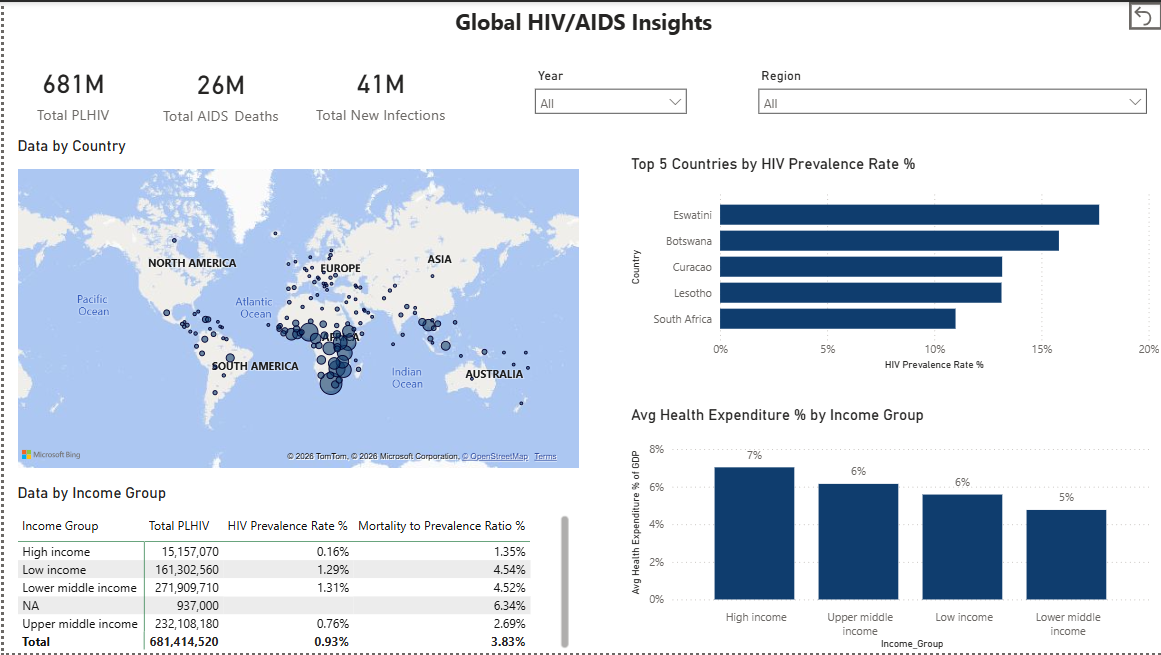

What the dashboard file says about the page in this screenshot:
{"tool":"powerbi","page":{"name":"Executive summary","canvas":[1280,720],"ordinal":1},"visuals":[{"type":"card","fields":{"Values":["All_Measures.Total PLHIV"]},"box":[7.7,61.5,135.8,75.6],"z":0},{"type":"card","fields":{"Values":["All_Measures.Total AIDS_Deaths"]},"box":[166.6,62.8,143.5,74.3],"z":1000},{"type":"card","fields":{"Values":["All_Measures.Total New_Infections"]},"box":[333.1,61.5,165.3,75.6],"z":2000},{"type":"slicer","fields":{"Values":["dim_location.World_Bank_Region"]},"box":[822.6,67.9,448.4,87.1],"z":3000},{"type":"map","title":"Data by Country","fields":{"Category":["dim_location.Country"],"Size":["All_Measures.Total AIDS_Deaths"]},"box":[10.3,148.6,630.4,370.3],"z":4000},{"type":"textbox","box":[415.8,0,448.4,61.5],"z":5000},{"type":"clusteredBarChart","title":"Top 5 Countries by HIV Prevalence Rate %","fields":{"Category":["dim_location.Country"],"Y":["All_Measures.HIV Prevalence Rate %"]},"box":[686.8,169.1,593.2,242.2],"z":6000},{"type":"pivotTable","title":"Data by Income Group","fields":{"Rows":["dim_location.Income_Group"],"Values":["All_Measures.Total PLHIV","All_Measures.HIV Prevalence Rate %","All_Measures.Mortality to Prevalence Ratio %"]},"box":[10.3,531.7,618.9,188.3],"z":7000},{"type":"columnChart","title":"Avg Health Expenditure %  by Income Group","fields":{"Category":["dim_location.Income_Group"],"Y":["All_Measures.Avg Health Expenditure % of GDP"]},"box":[686.8,445.9,584.3,274.2],"z":8000},{"type":"slicer","fields":{"Values":["dim_time.Year"]},"box":[576.6,67.9,187.1,83.3],"z":9000},{"type":"actionButton","box":[1242.8,0,37.2,30.8],"z":9001}]}

Visuals, with their boxes in screenshot pixels (x1, y1, x2, y2), scaled from the page's 1280x720 canvas onto the 1161x655 screenshot:
card - All_Measures.Total PLHIV: 7 56 130 125
card - All_Measures.Total AIDS_Deaths: 151 57 281 125
card - All_Measures.Total New_Infections: 302 56 452 125
slicer - dim_location.World_Bank_Region: 746 62 1153 141
"Data by Country" map: 9 135 581 472
textbox: 377 0 784 56
"Top 5 Countries by HIV Prevalence Rate %" clusteredBarChart: 623 154 1160 374
"Data by Income Group" pivotTable: 9 484 571 654
"Avg Health Expenditure %  by Income Group" columnChart: 623 406 1153 654
slicer - dim_time.Year: 523 62 693 138
actionButton: 1127 0 1160 28
